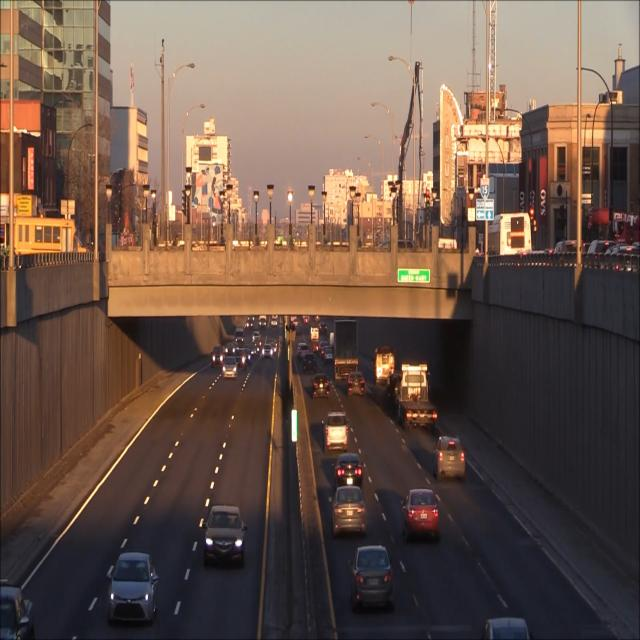Car: (107, 552, 159, 626), (351, 546, 395, 610), (206, 504, 247, 566), (400, 364, 438, 428), (402, 488, 440, 542), (332, 486, 368, 534), (435, 434, 469, 483), (334, 452, 365, 489), (325, 414, 349, 449), (346, 369, 366, 397), (312, 372, 332, 398)
